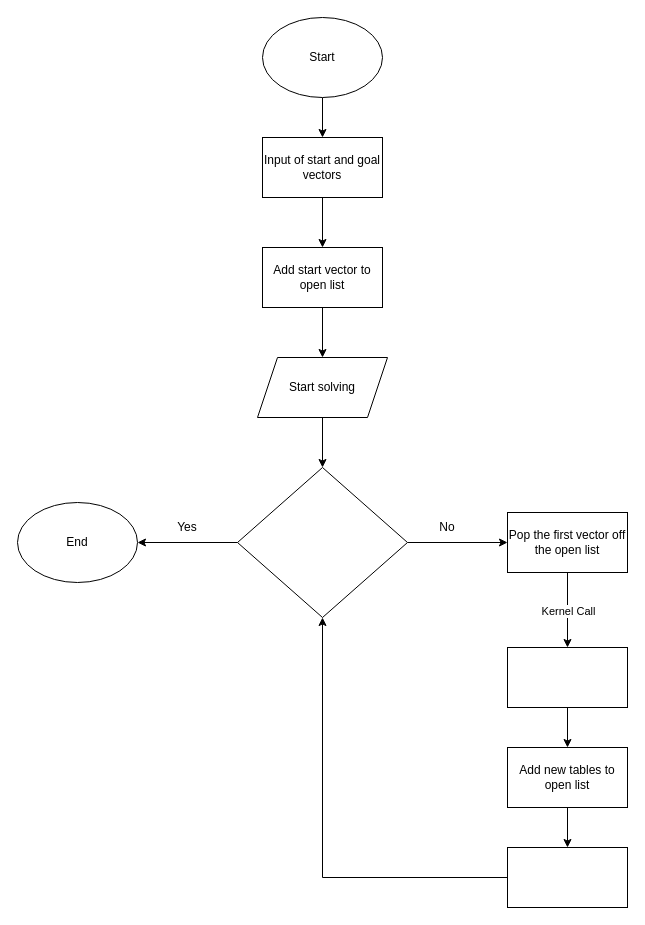
Some shapes in this 645 by 925 pixel diagram are drawn without their labels. The shapes that lost their labels are listed below. From the top down, each one's centre as x and y in pixels, then its label:
At [322,542]: "Is the vector at the beginning of the open list equal to the goal vector".
At [567,677]: "Generate new tables based off the current vector".
At [567,877]: "Sort open list based on priority".
